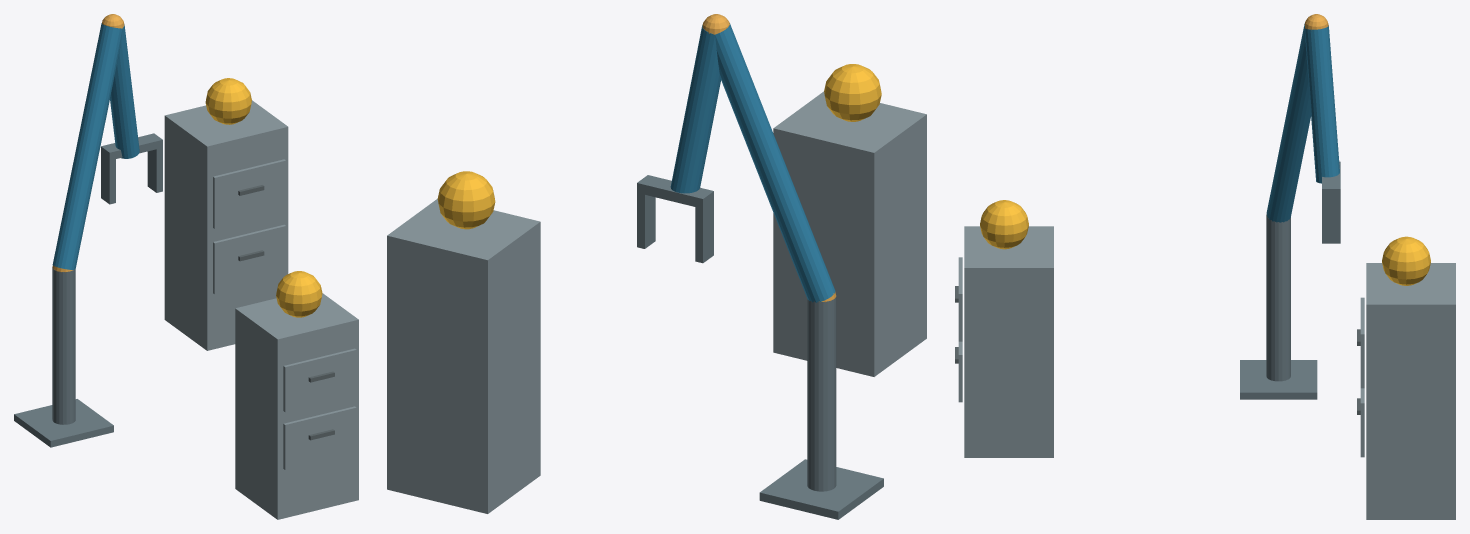
3 renders of one model, left to right at view 1: azimuth 30°, elevation 25°; view 2: azimuth 150°, elevation 25°; view 3: azimuth 270°, elevation 25°, orthographic. The views are drawn at different scales.
Visible parts, largest first — view 1: cabinet_2 body, cabinet_1 body, moving link 1, cabinet_2 drawer front.001, cabinet_2 drawer front, fixed post, cabinet_1 drawer front, cabinet_1 drawer front.001, pedestal, moving link 2, ball ball_2, released ball_1 (+3 smaller); view 2: cabinet_2 body, cabinet_1 body, moving link 1, fixed post, moving link 2, pedestal, ball ball_2, released ball_1, gripper bridge, gripper finger -1, gripper finger 1; view 3: cabinet_2 body, cabinet_1 body, fixed post, moving link 1, moving link 2, pedestal, released ball_1, ball ball_2, gripper finger 1.
Part boxes in pixels (x1=…): cabinet_2 body: x1=164, y1=100, x2=288, y2=350; cabinet_1 body: x1=235, y1=293, x2=358, y2=519; moving link 1: x1=52, y1=23, x2=122, y2=269; cabinet_2 drawer front.001: x1=213, y1=159, x2=286, y2=228; cabinet_2 drawer front: x1=213, y1=224, x2=286, y2=294; fixed post: x1=52, y1=267, x2=75, y2=424; cabinet_1 drawer front: x1=283, y1=406, x2=356, y2=469; cabinet_1 drawer front.001: x1=283, y1=348, x2=356, y2=412; pedestal: x1=14, y1=399, x2=113, y2=447; moving link 2: x1=110, y1=24, x2=139, y2=158; ball ball_2: x1=205, y1=78, x2=251, y2=124; released ball_1: x1=276, y1=271, x2=322, y2=317; cabinet_2 body: x1=387, y1=199, x2=540, y2=513; cabinet_1 body: x1=773, y1=91, x2=926, y2=376; moving link 1: x1=715, y1=23, x2=835, y2=302; fixed post: x1=807, y1=295, x2=836, y2=491; moving link 2: x1=670, y1=25, x2=720, y2=193; pedestal: x1=759, y1=459, x2=883, y2=519; ball ball_2: x1=437, y1=171, x2=495, y2=229; released ball_1: x1=824, y1=64, x2=881, y2=121; gripper bridge: x1=637, y1=175, x2=713, y2=208; gripper finger -1: x1=695, y1=201, x2=713, y2=263; gripper finger 1: x1=637, y1=193, x2=655, y2=248; cabinet_2 body: x1=1366, y1=263, x2=1455, y2=519; cabinet_1 body: x1=964, y1=226, x2=1053, y2=457; fixed post: x1=1266, y1=216, x2=1290, y2=381; moving link 1: x1=1266, y1=23, x2=1310, y2=222; moving link 2: x1=1305, y1=25, x2=1339, y2=183; pedestal: x1=1240, y1=360, x2=1317, y2=399; released ball_1: x1=980, y1=200, x2=1028, y2=249; ball ball_2: x1=1382, y1=236, x2=1430, y2=285; gripper finger 1: x1=1322, y1=197, x2=1340, y2=243.
Size of the model in its own units: 1.17 by 1.44 by 1.62.
